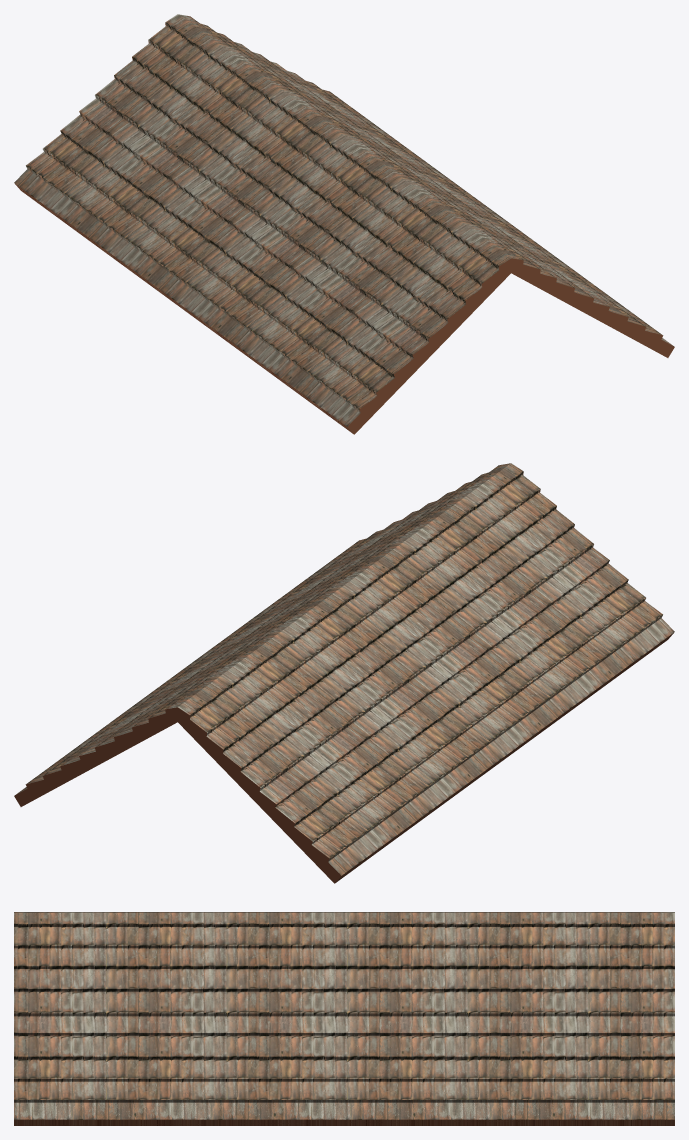
The model's file is R1_Genteng.fbx.
3 renders of one model, top to bottom at view 1: azimuth 30°, elevation 25°; view 2: azimuth 150°, elevation 25°; view 3: azimuth 270°, elevation 25°, orthographic.
Parts seen in each view (by area): view 1: Cube.003; view 2: Cube.003; view 3: Cube.003.
Part boxes in pixels (x1,y1,x2,y2): Cube.003: (14, 14, 674, 434); Cube.003: (14, 463, 674, 883); Cube.003: (14, 912, 674, 1125).
Bounding box in the file's own units: 15.9 × 6.42 × 28.04.
Materials: 2 (2 with a texture image).
